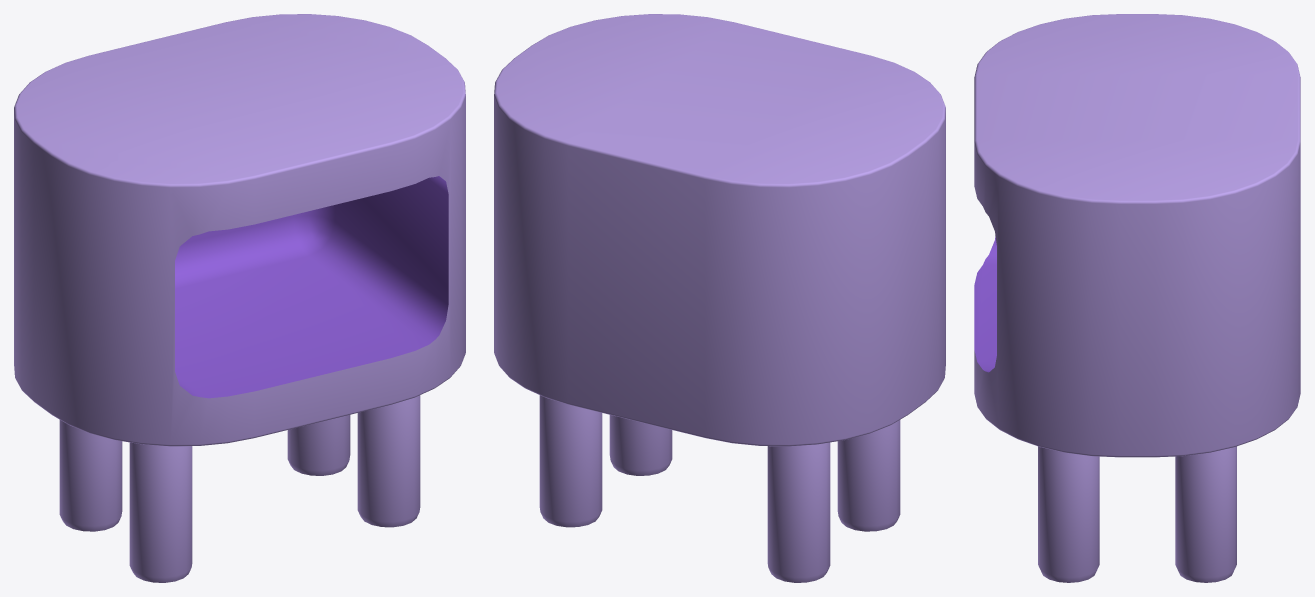
File: criado_capsula_nicho_lilas.glb
The picture shows the model from 3 angles, left to right: view 1: azimuth 30°, elevation 25°; view 2: azimuth 150°, elevation 25°; view 3: azimuth 270°, elevation 25°; orthographic projection. The views are drawn at different scales.
Parts seen in each view (by area): view 1: criado_capsula_nicho_lilas; view 2: criado_capsula_nicho_lilas; view 3: criado_capsula_nicho_lilas.
Boxes of the visible parts, <box> form: criado_capsula_nicho_lilas: <box>14,14,465,582</box>; criado_capsula_nicho_lilas: <box>494,14,945,582</box>; criado_capsula_nicho_lilas: <box>974,14,1300,582</box>.
Size of the model in its own units: 0.52 by 0.53 by 0.38.
1 material, 1 textured.
